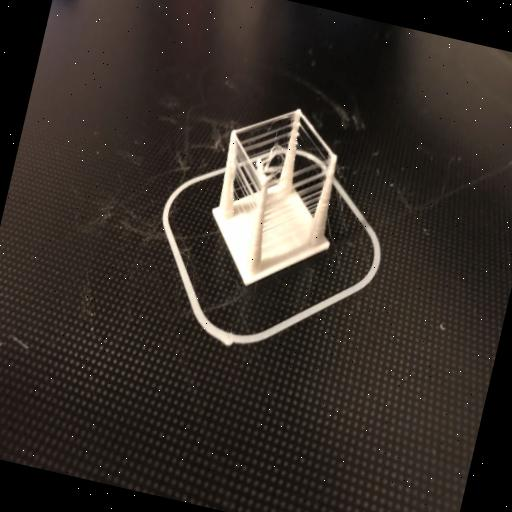stringing: (263, 159, 329, 247), (235, 108, 294, 172), (301, 111, 332, 168)
